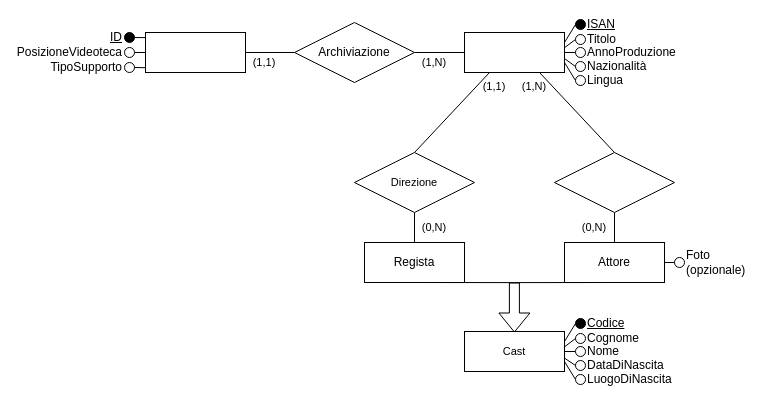
Image size: 762x403. Some labels were removed from this diagram. The centre of each missing label's shape, as x and y in pixels:
Film: the point at 514,52
Interpretazione: the point at 614,182
Supporto: the point at 195,52
